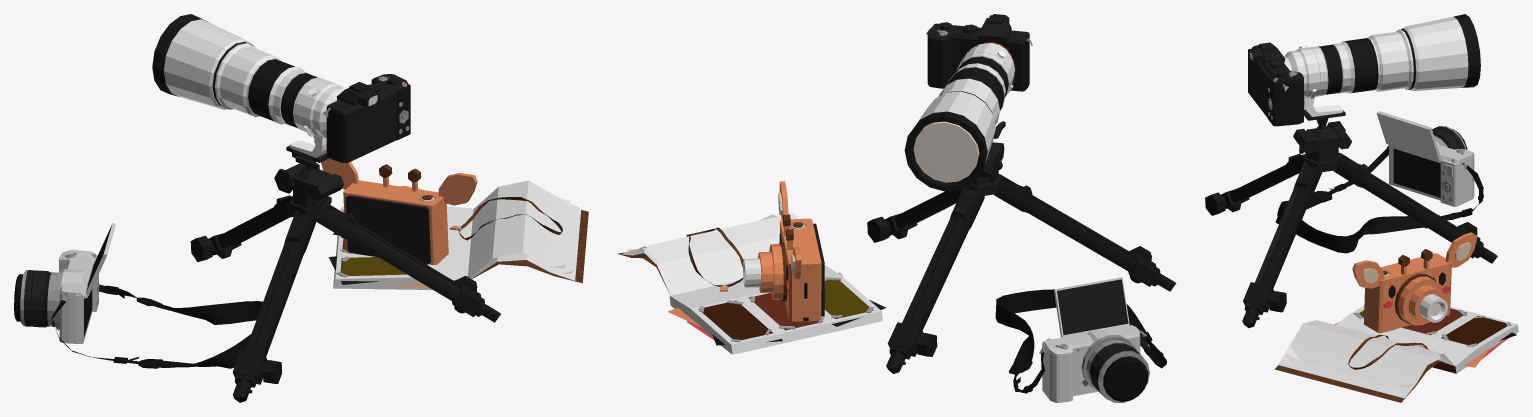
3 views of the same model, side by side, from view 1: azimuth 30°, elevation 25°; view 2: azimuth 150°, elevation 25°; view 3: azimuth 270°, elevation 25° (orthographic). The views are drawn at different scales.
Visible parts, largest first — view 1: Sheet5, Base_lens.012, Album, Screen.002, Strap, Cube.026, Kids_camera, Screen.001, Base_lens.010, Cube.019, New_camera, Special_cam (+20 smaller); view 2: Album, Sheet5, Base_lens.012, Screen, Base_lens.002, Kids_camera, Strap, Special_cam, Cube.018, New_camera, Cube.022, Lens_cup (+15 smaller); view 3: Sheet5, Base_lens.012, Album, New_camera, Kids_camera, Strap, Base_lens.010, Cube.021, Screen, Special_cam, Cube.027, Base_lens.009 (+29 smaller).
Boxes of the visible parts, x1,y1,x2,y2 form: Sheet5: (467, 180, 570, 277); Base_lens.012: (152, 14, 252, 109); Album: (333, 206, 473, 289); Screen.002: (345, 195, 430, 264); Strap: (51, 284, 262, 368); Cube.026: (316, 209, 485, 316); Kids_camera: (343, 180, 448, 264); Screen.001: (343, 92, 396, 163); Base_lens.010: (214, 43, 280, 116); Cube.019: (245, 213, 316, 387); New_camera: (59, 255, 98, 343); Special_cam: (326, 81, 410, 162); Album: (669, 265, 882, 354); Sheet5: (626, 213, 798, 295); Base_lens.012: (904, 91, 995, 191); Screen: (1054, 277, 1129, 337); Base_lens.002: (913, 121, 979, 182); Kids_camera: (780, 218, 821, 321); Strap: (995, 289, 1166, 393); Special_cam: (927, 33, 1029, 91); Cube.018: (994, 181, 1161, 286); New_camera: (1042, 335, 1140, 402); Cube.022: (899, 189, 984, 359); Lens_cup: (1103, 356, 1148, 401); Sheet5: (1284, 320, 1454, 387); Base_lens.012: (1402, 14, 1480, 90); Album: (1336, 306, 1518, 373); New_camera: (1388, 144, 1474, 206); Kids_camera: (1363, 253, 1451, 332); Strap: (1275, 148, 1483, 253); Base_lens.010: (1367, 29, 1413, 91); Cube.021: (1333, 159, 1483, 258); Screen: (1376, 111, 1441, 162); Special_cam: (1268, 76, 1303, 126); Cube.027: (1254, 167, 1322, 314); Base_lens.009: (1344, 38, 1378, 93).
Bounding box in the file's own units: 1.42 × 0.6492 × 0.7879.
